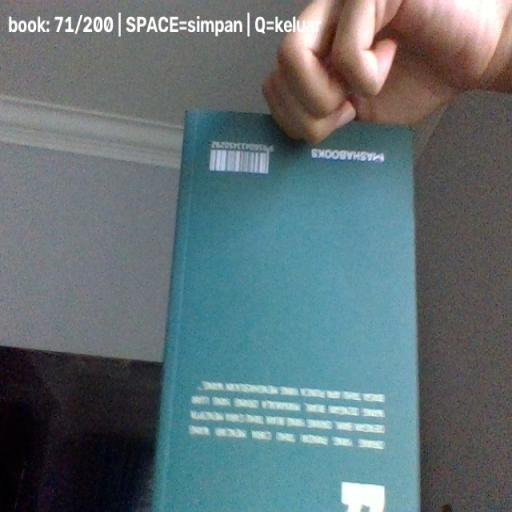Book: (149, 111, 419, 512)
